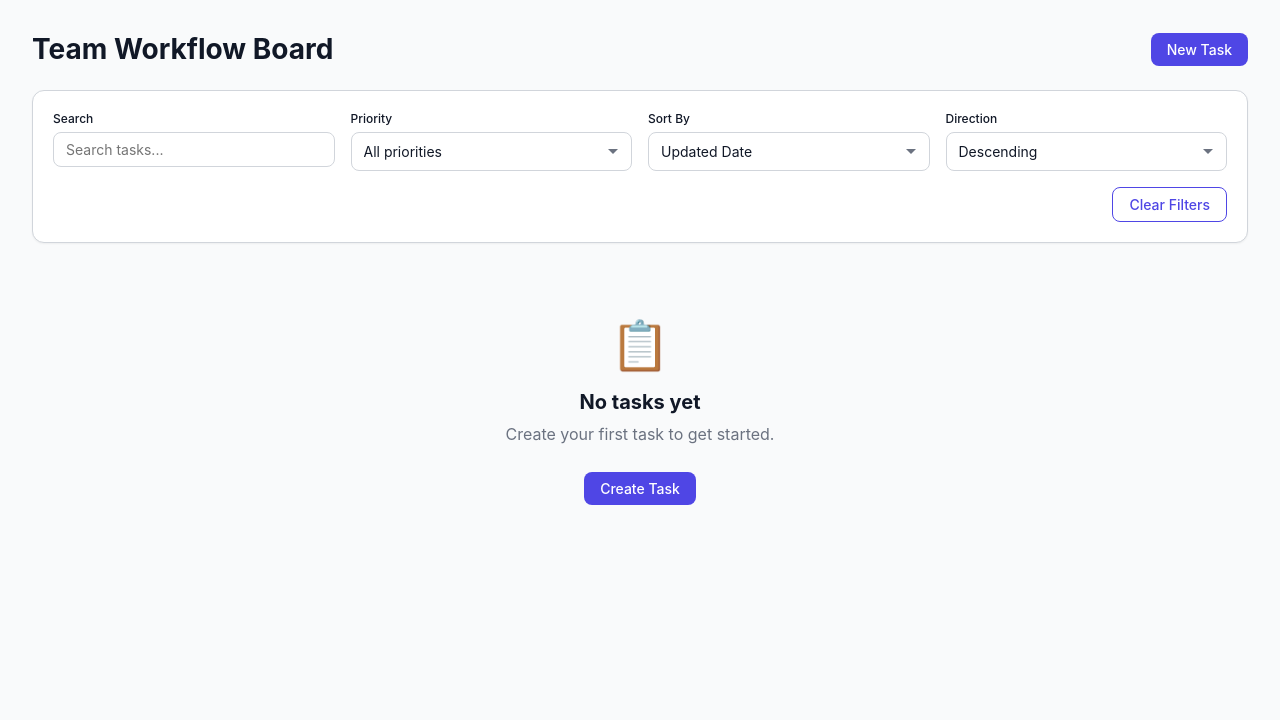
Create Task Flow › creates a new task and displays it on the board
Click the button "New Task": click(1199, 49) x1=1151 y1=32 x2=1248 y2=66
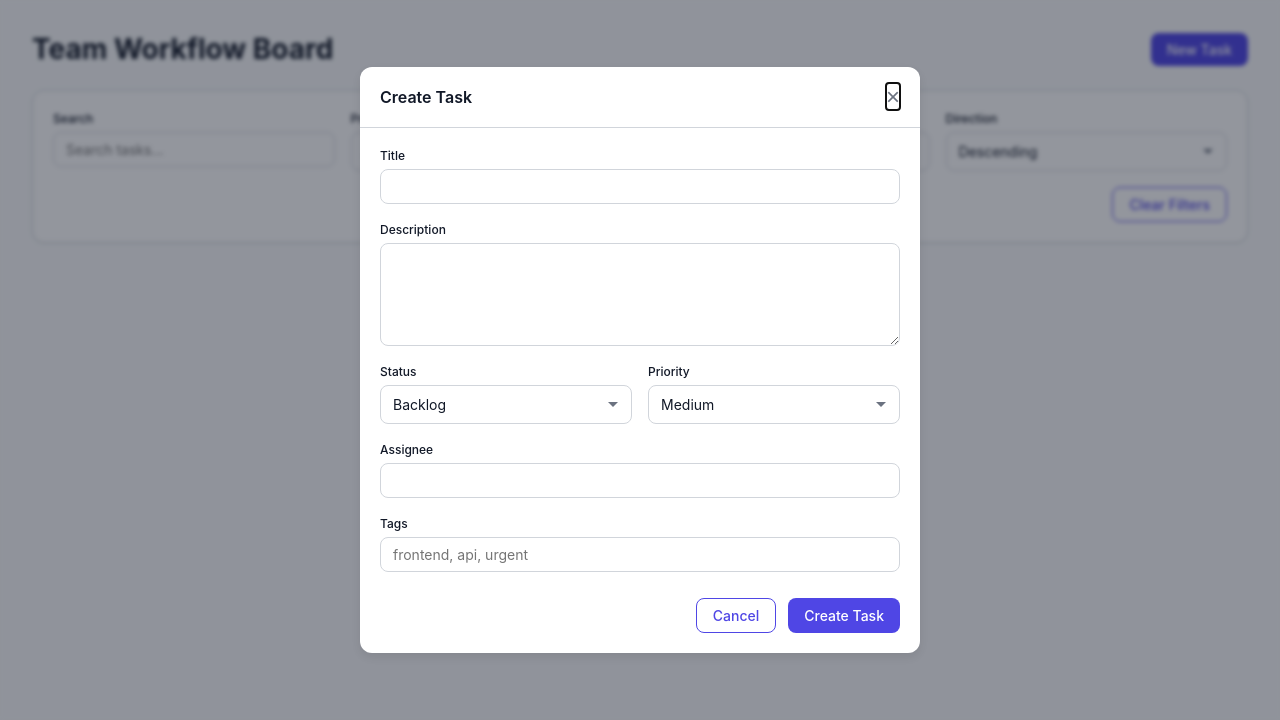
In the field labelled "Title": (640, 186) x1=380 y1=169 x2=900 y2=204, type "Build Task Form"
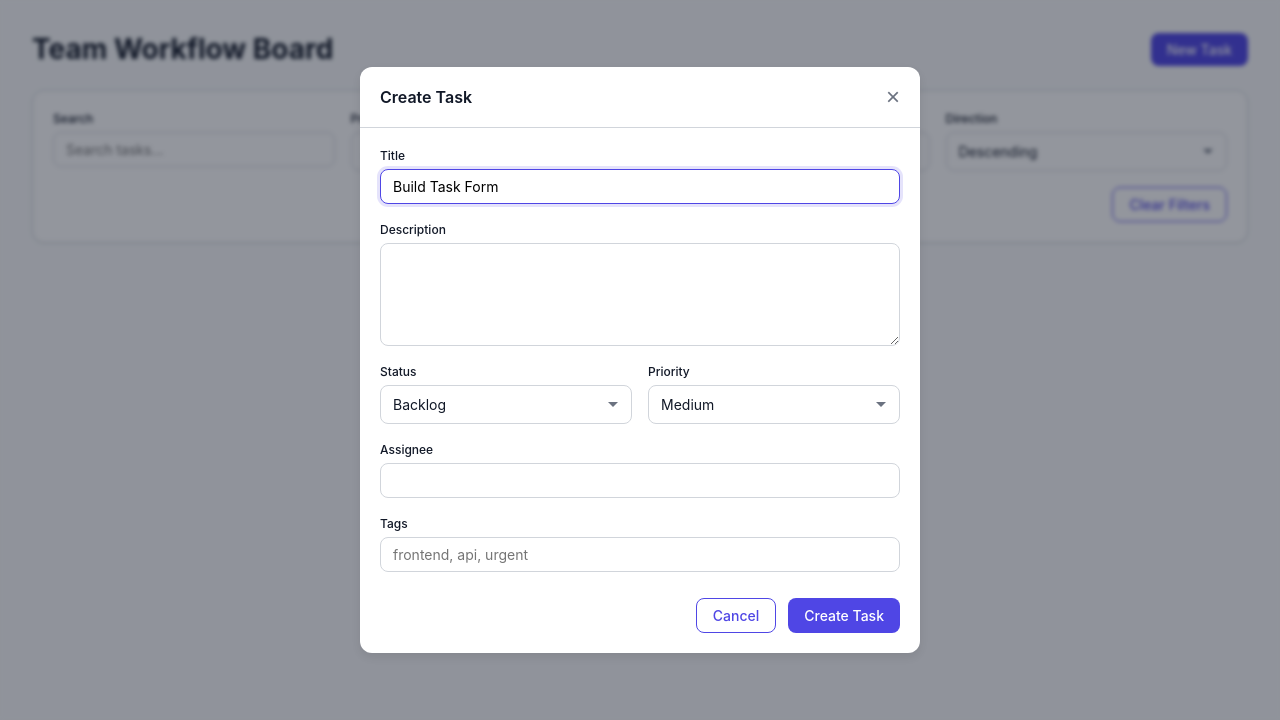
In the text box labelled "Description": (640, 294) x1=380 y1=243 x2=900 y2=346, type "Implement task creation workflow"
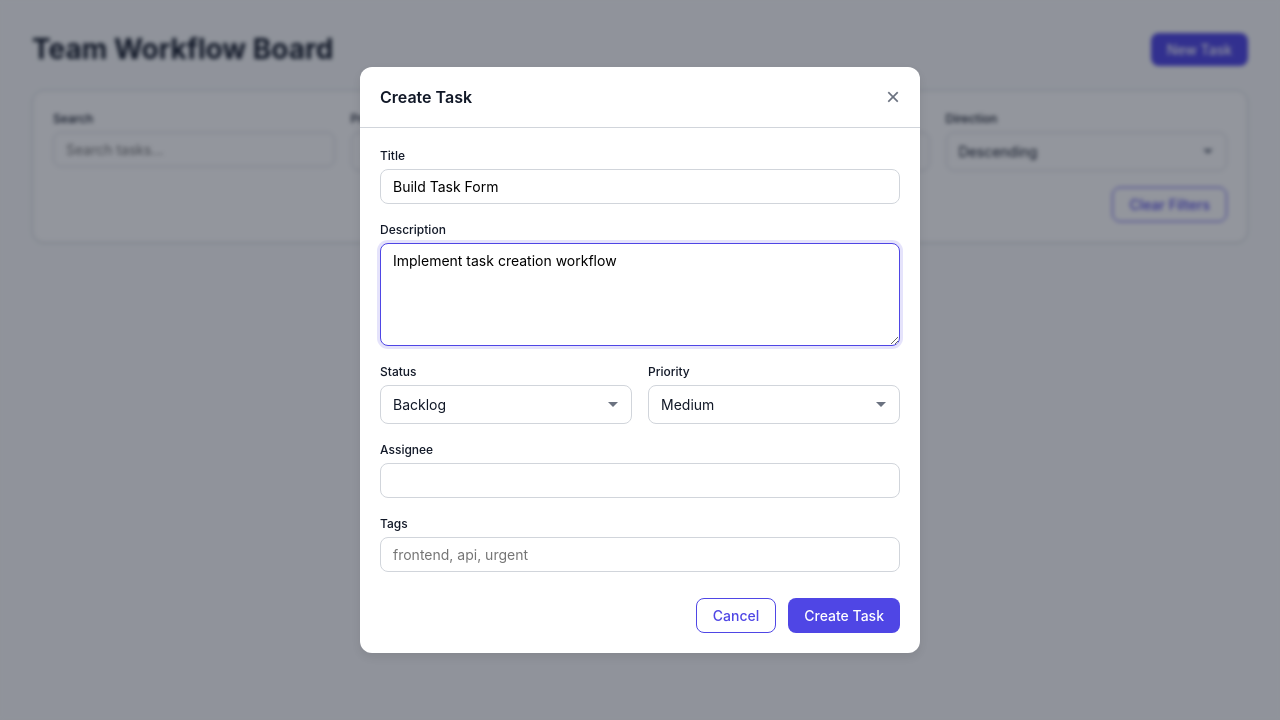
Select "High" in the dropdown labelled "Priority": (774, 404) x1=648 y1=385 x2=900 y2=424
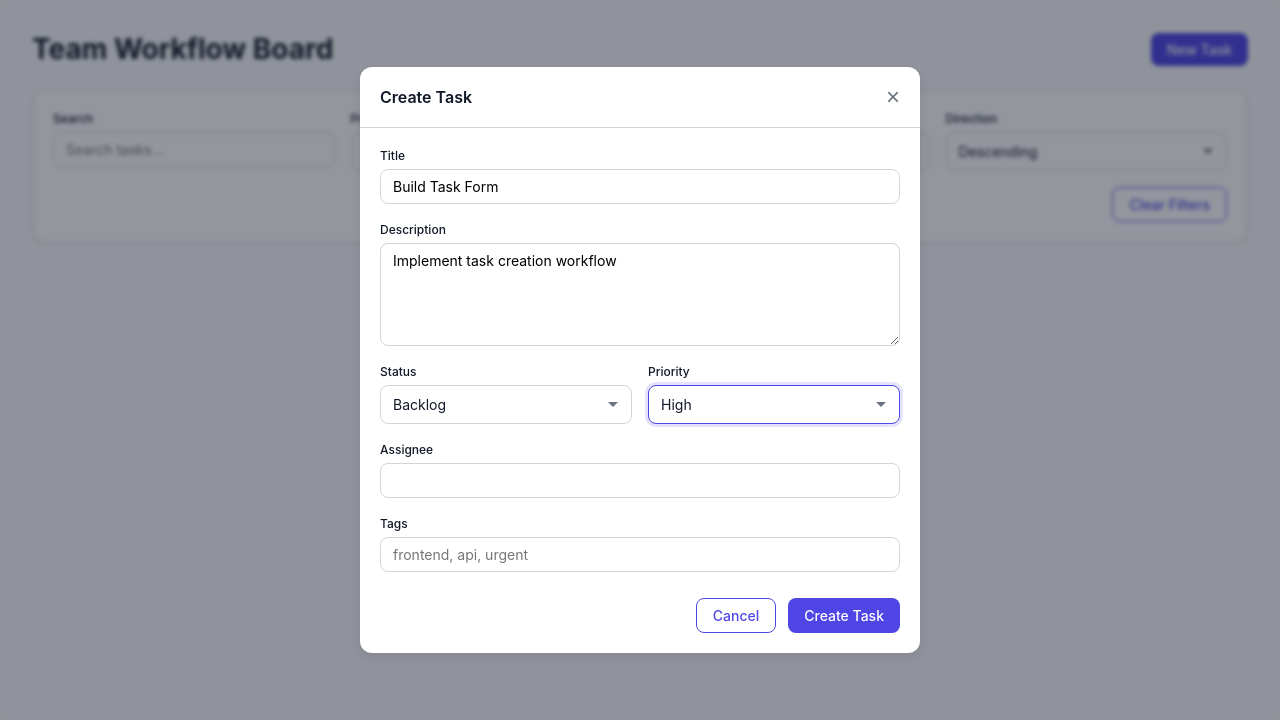
Click the button "Create Task": click(844, 616) x1=788 y1=598 x2=900 y2=633
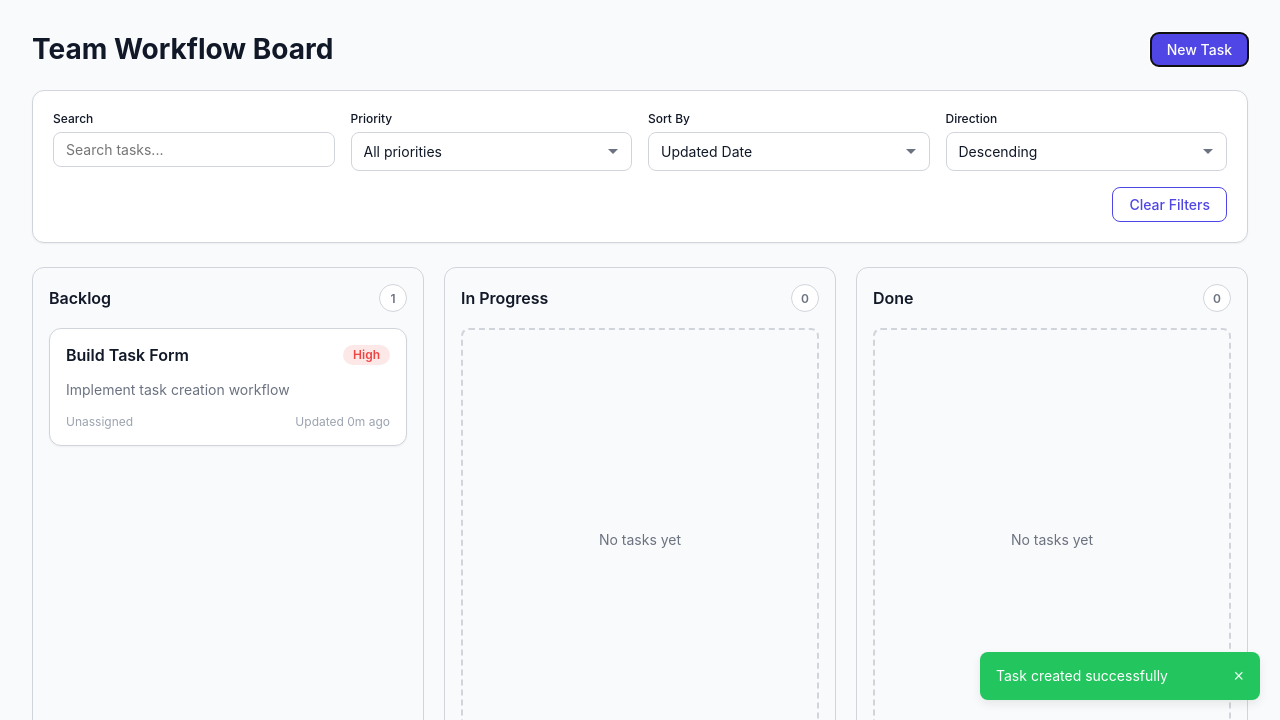
expect the heading "Build Task Form" is shown: met, box x1=66 y1=345 x2=189 y2=365
expect the button "Build Task Form" is shown: met, box x1=49 y1=328 x2=407 y2=446
